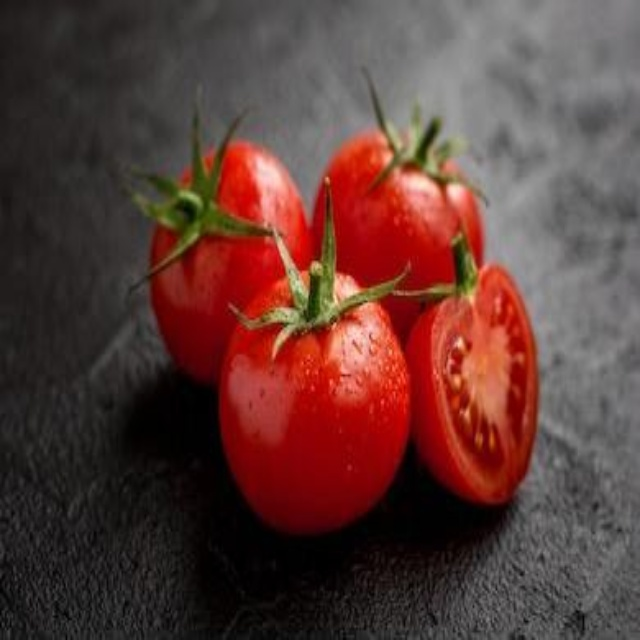tomato: (392, 269, 567, 515), (141, 142, 318, 382), (245, 302, 409, 527), (308, 122, 489, 314)
